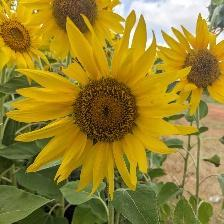sunflower: (7, 10, 184, 201)
